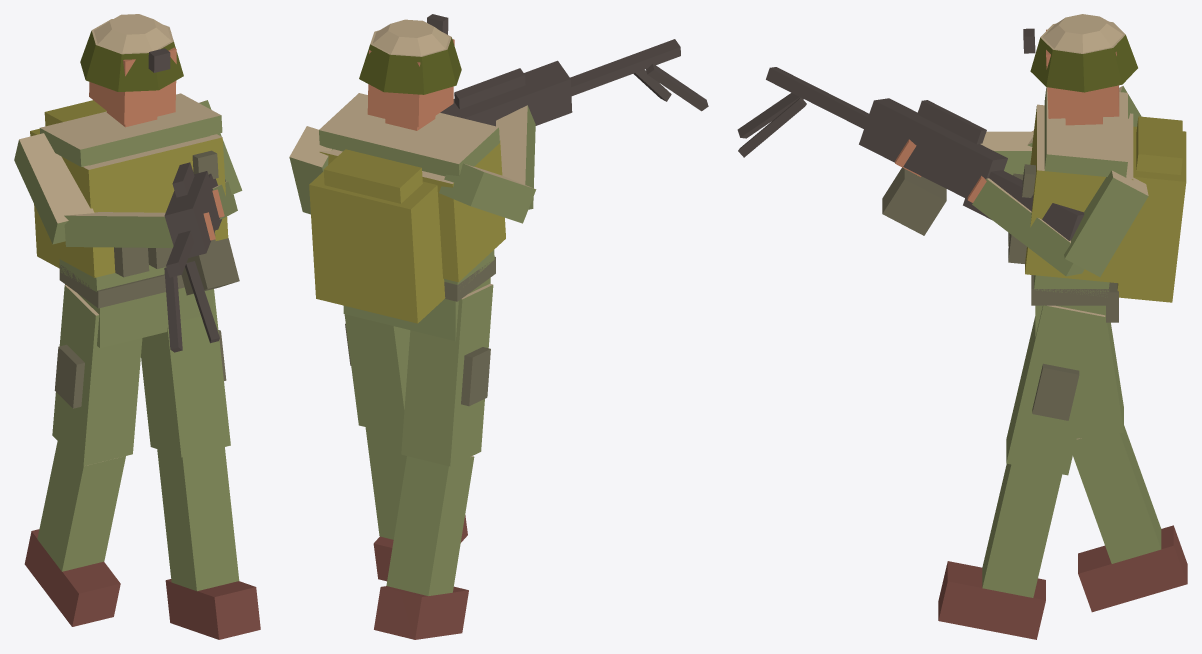
Rendered from SM_SoldadoArmado_v3_MG4E_Apuntando_LOD0.fbx.
3 renders of one model, left to right at view 1: azimuth 30°, elevation 25°; view 2: azimuth 150°, elevation 25°; view 3: azimuth 270°, elevation 25°, orthographic.
Parts seen in each view (by area): view 1: SM_bloques.soldado_armado_v3_LOD0; view 2: SM_bloques.soldado_armado_v3_LOD0; view 3: SM_bloques.soldado_armado_v3_LOD0.
Part boxes in pixels (left/top/right/bottom): SM_bloques.soldado_armado_v3_LOD0: left=14, top=14, right=260, bottom=639; SM_bloques.soldado_armado_v3_LOD0: left=289, top=14, right=708, bottom=639; SM_bloques.soldado_armado_v3_LOD0: left=737, top=14, right=1187, bottom=639.
Size of the model in its own units: 0.7228 by 1.77 by 1.21.
